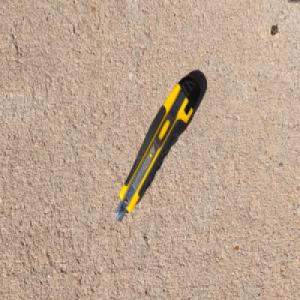Cutter: (114, 73, 202, 224)
